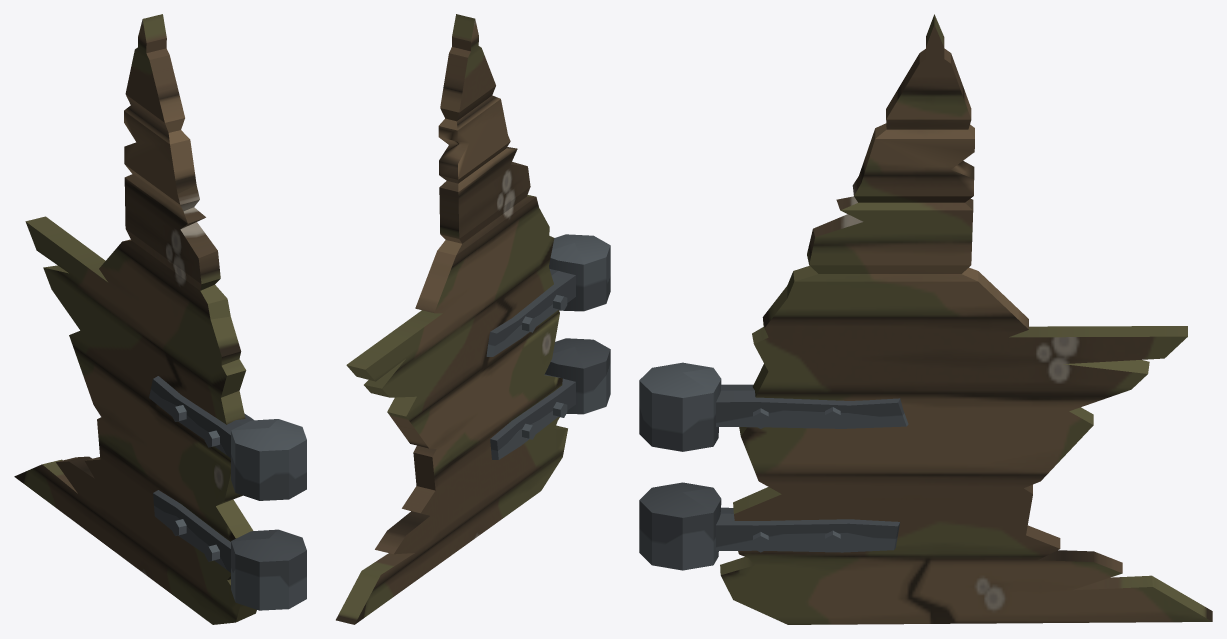
The model's file is SM_Veh_Ship_M_Rudder_01.fbx.
3 views of the same model, side by side, from view 1: azimuth 30°, elevation 25°; view 2: azimuth 150°, elevation 25°; view 3: azimuth 270°, elevation 25° (orthographic). The views are drawn at different scales.
Parts seen in each view (by area): view 1: SM_Veh_Ship_M_Rudder_01; view 2: SM_Veh_Ship_M_Rudder_01; view 3: SM_Veh_Ship_M_Rudder_01.
Part boxes in pixels (left/top/right/bottom): SM_Veh_Ship_M_Rudder_01: left=14, top=14, right=306, bottom=624; SM_Veh_Ship_M_Rudder_01: left=336, top=14, right=610, bottom=624; SM_Veh_Ship_M_Rudder_01: left=639, top=14, right=1212, bottom=624.
Bounding box in the file's own units: 49.46 × 391 × 338.
